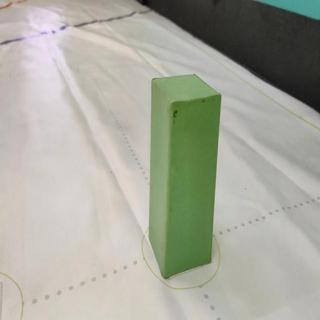greenbox: (148, 73, 222, 282)
